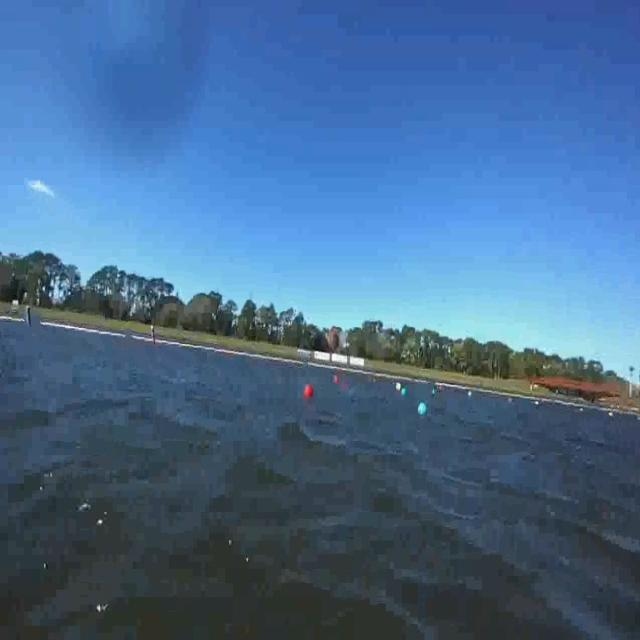green-buoy: (419, 403, 428, 417), (400, 385, 409, 399)
red-buoy: (330, 370, 342, 389), (304, 384, 314, 400), (302, 382, 312, 397)
